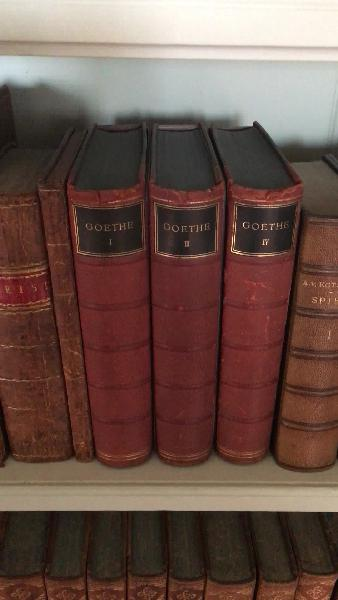Aa6-10: (32, 180, 94, 466)
Aa6-11_13: (65, 184, 285, 477)
Aa6-9: (1, 192, 69, 480)
